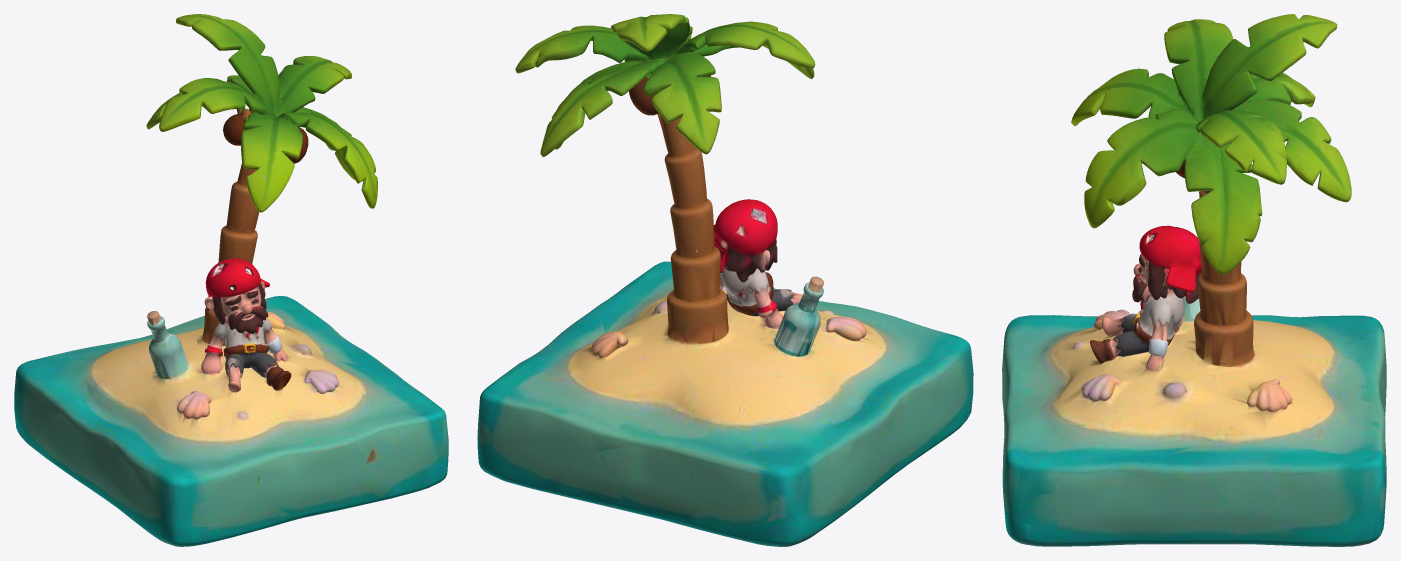
Rendered from m_castaway_animated.glb.
The picture shows the model from 3 angles, left to right: view 1: azimuth 30°, elevation 25°; view 2: azimuth 150°, elevation 25°; view 3: azimuth 270°, elevation 25°; orthographic projection. The views are drawn at different scales.
Visible parts, largest first — view 1: m_castaway_Living_Scenery; view 2: m_castaway_Living_Scenery; view 3: m_castaway_Living_Scenery.
Boxes of the visible parts, x1=… form: m_castaway_Living_Scenery: x1=14, y1=14, x2=448, y2=546; m_castaway_Living_Scenery: x1=477, y1=14, x2=973, y2=546; m_castaway_Living_Scenery: x1=1002, y1=14, x2=1386, y2=546.
Bounding box in the file's own units: 0.9985 × 1.34 × 0.9999.
Materials: 1 (1 with a texture image).
